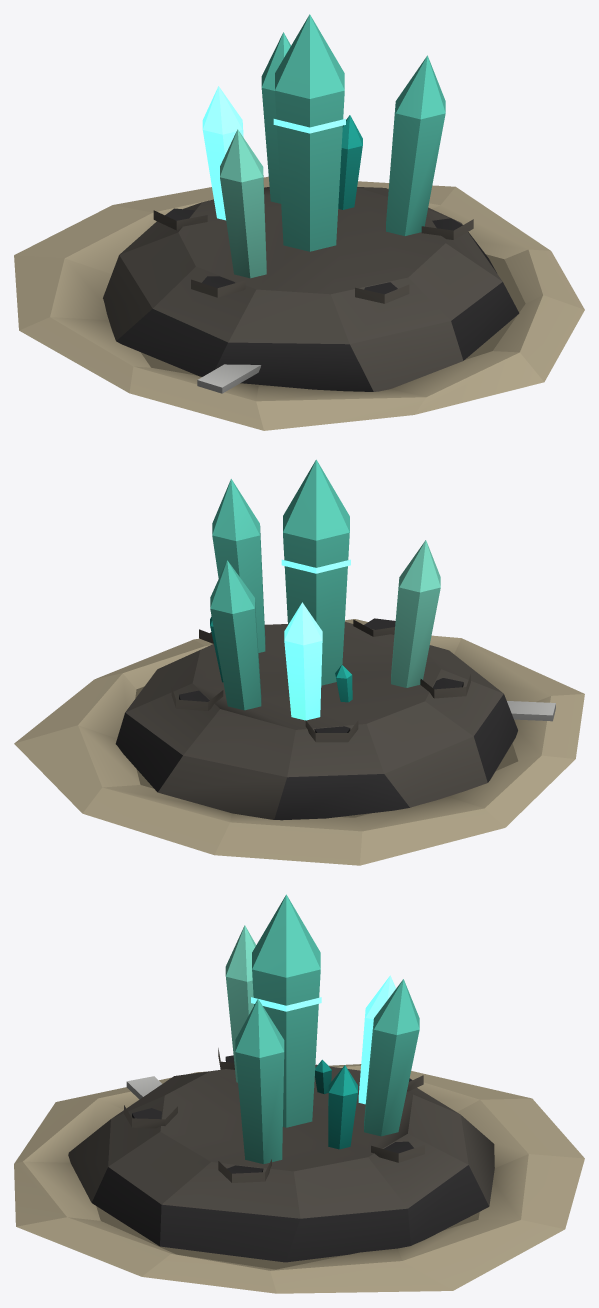
Rendered from n_crystal_main.glb.
3 renders of one model, top to bottom at view 1: azimuth 30°, elevation 25°; view 2: azimuth 150°, elevation 25°; view 3: azimuth 270°, elevation 25°, orthographic. The views are drawn at different scales.
Parts seen in each view (by area): view 1: body, deployCrystal0, deployCrystal1, deployCrystal2, deployCrystal4, deployCrystal3, deployCrystal5; view 2: body, deployCrystal0, deployCrystal3, deployCrystal2, deployCrystal1, deployCrystal4; view 3: body, deployCrystal0, deployCrystal1, deployCrystal3, deployCrystal2, deployCrystal5, deployCrystal4.
Boxes of the visible parts, x1,y1,x2,y2 form: body: [14, 176, 584, 430]; deployCrystal0: [273, 14, 345, 251]; deployCrystal1: [386, 55, 445, 235]; deployCrystal2: [220, 129, 266, 278]; deployCrystal4: [202, 86, 243, 220]; deployCrystal3: [261, 32, 290, 203]; deployCrystal5: [338, 115, 362, 209]; body: [14, 618, 584, 865]; deployCrystal0: [281, 459, 350, 685]; deployCrystal3: [210, 560, 261, 710]; deployCrystal2: [391, 540, 440, 687]; deployCrystal1: [212, 479, 265, 652]; deployCrystal4: [284, 602, 322, 720]; body: [14, 1048, 584, 1293]; deployCrystal0: [251, 894, 321, 1127]; deployCrystal1: [235, 999, 284, 1164]; deployCrystal3: [364, 979, 419, 1136]; deployCrystal2: [225, 925, 256, 1082]; deployCrystal5: [328, 1065, 357, 1149]; deployCrystal4: [358, 975, 395, 1104].
Bounding box in the file's own units: 2.89 × 1.67 × 3.02.
